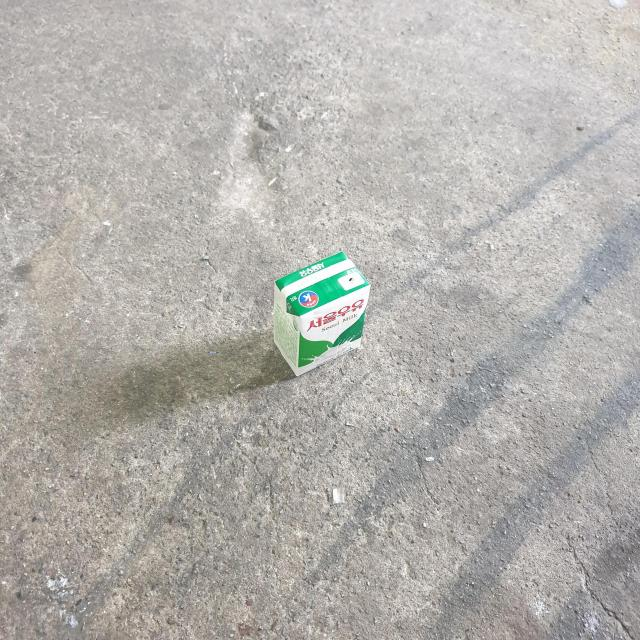paperpack: (274, 252, 371, 376)
